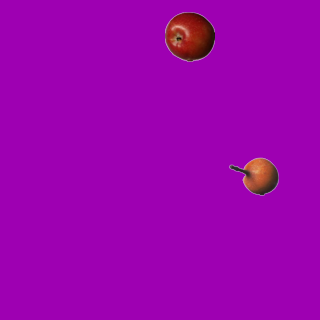Apple Braeburn: (164, 11, 214, 61)
Granadilla: (228, 151, 278, 201)
